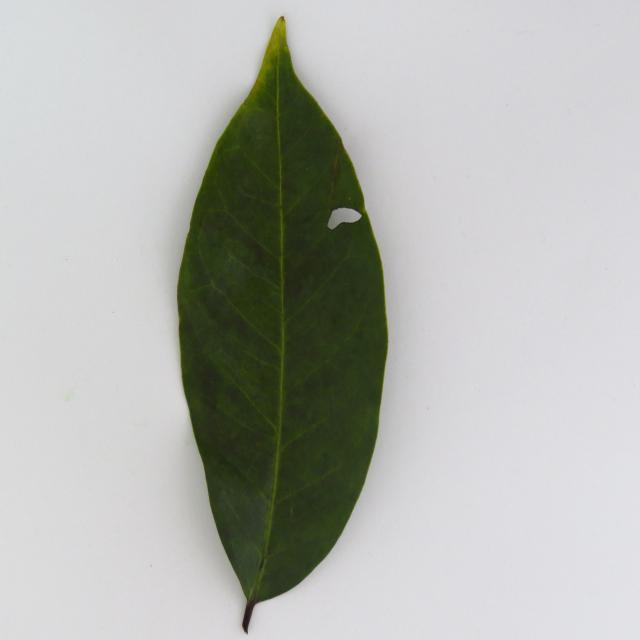DeficienciaNutricional-Potasio: (178, 18, 388, 632)
